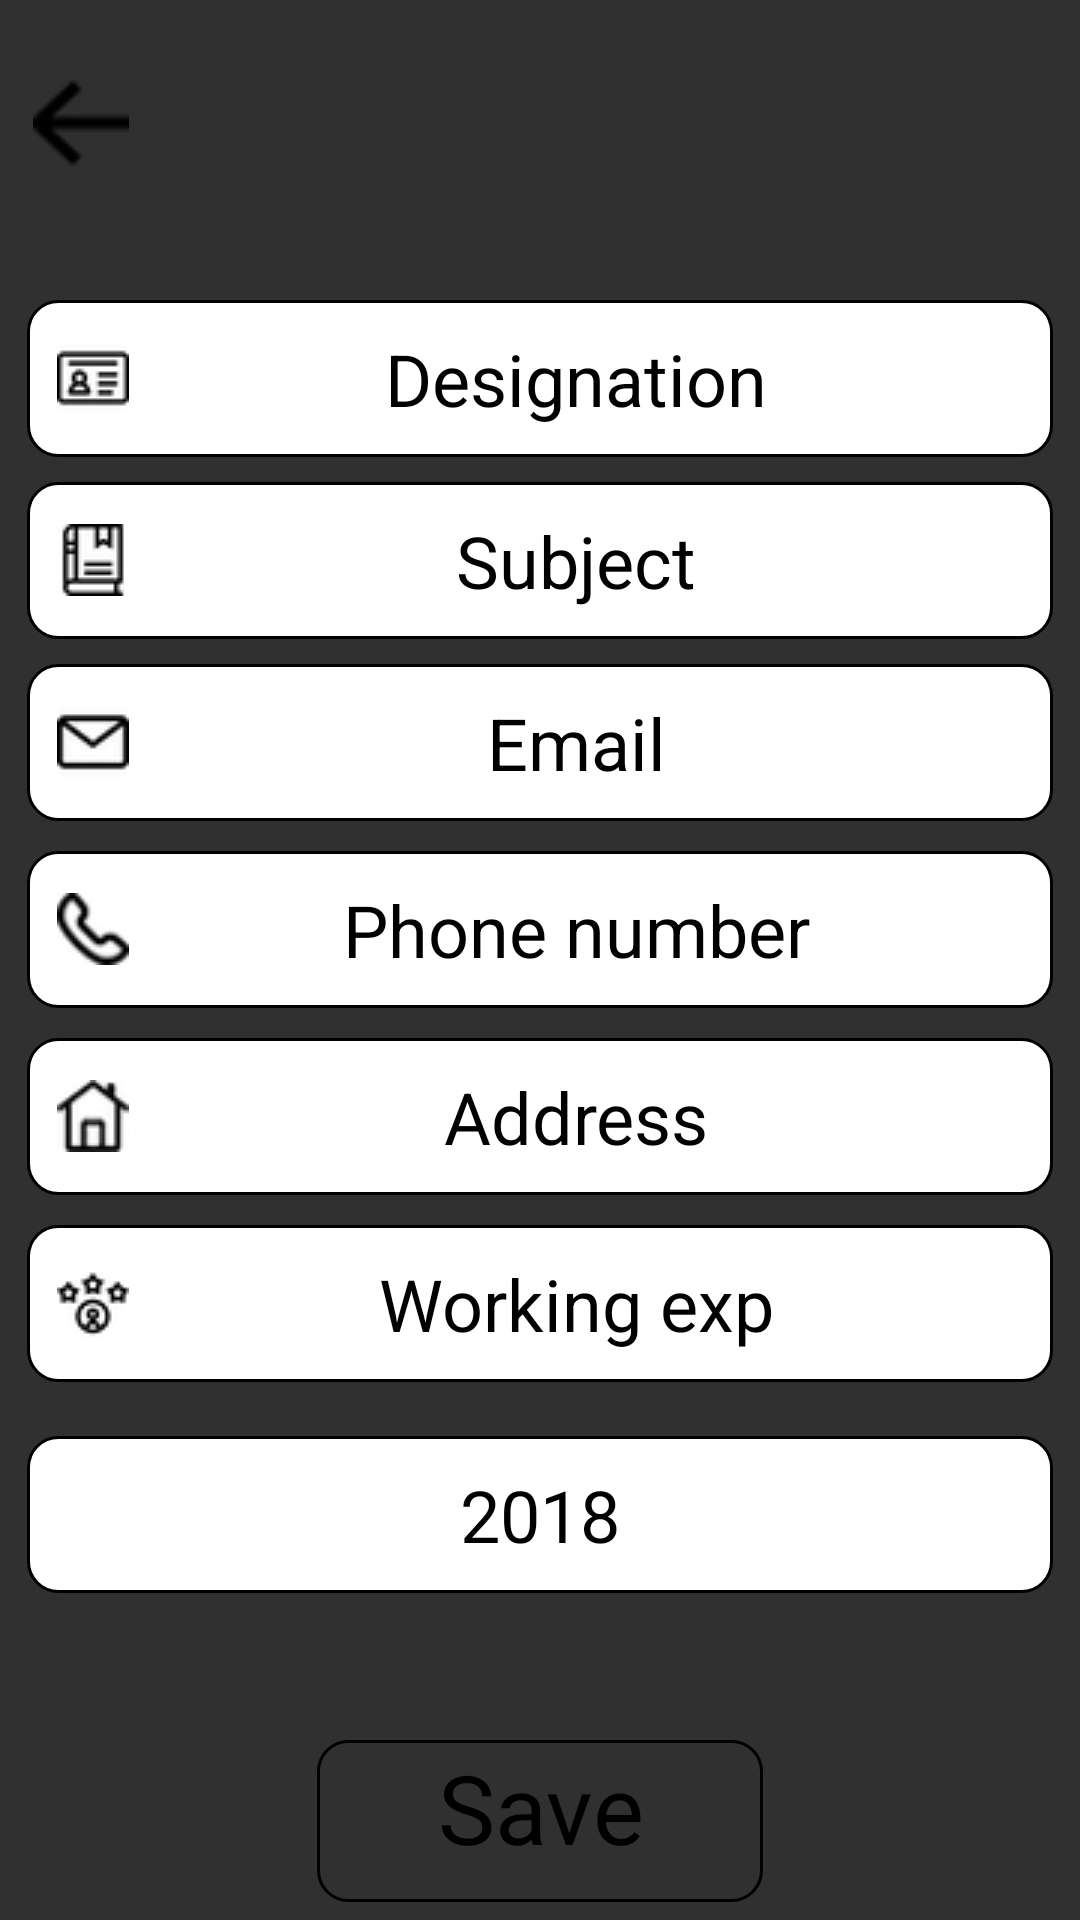

Screen size 1080 x 1920. Icon name, then its center in pixels as (x=x, y=y):
Back to pre layout: (x=81, y=123)
